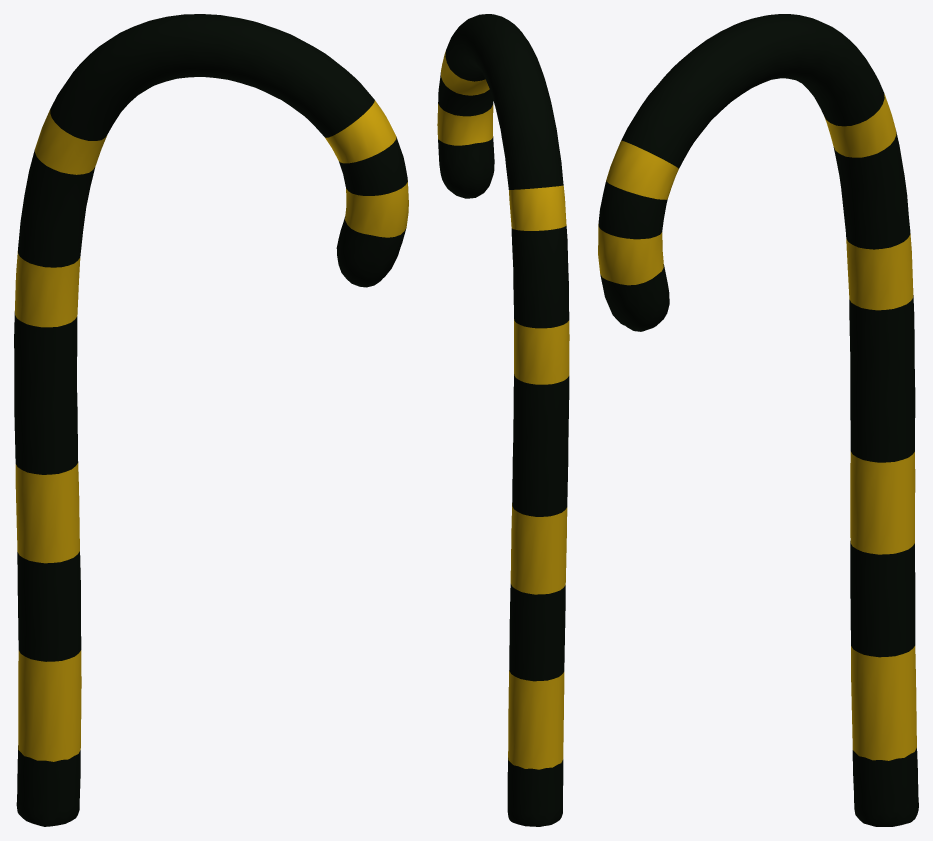
3 views of the same model, side by side, from view 1: azimuth 30°, elevation 25°; view 2: azimuth 150°, elevation 25°; view 3: azimuth 270°, elevation 25° (orthographic). The views are drawn at different scales.
Visible parts, largest first — view 1: 346; view 2: 346; view 3: 346.
Part boxes in pixels (box(x1,y1,x2,y2)): 346: box(14, 14, 408, 826); 346: box(437, 14, 569, 826); 346: box(598, 14, 918, 826).
Bounding box in the file's own units: 24.41 × 25.06 × 72.63.
